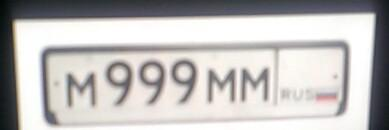license-plateSW: (42, 44, 348, 126)
